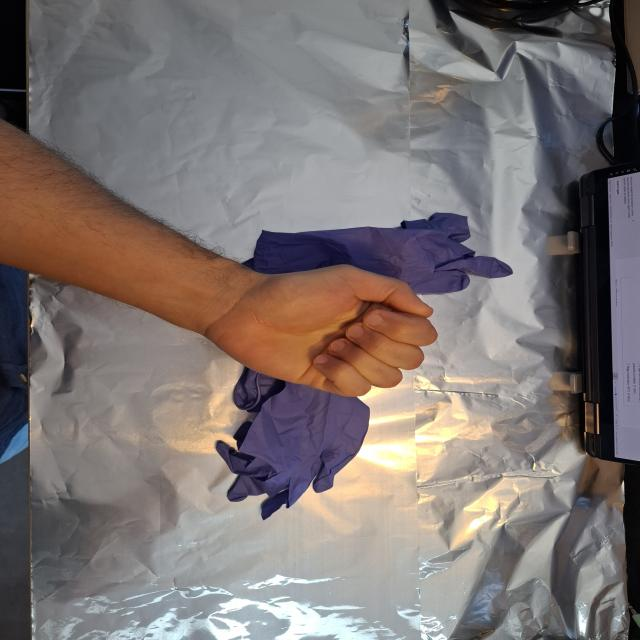glove_off: (191, 262, 440, 398)
